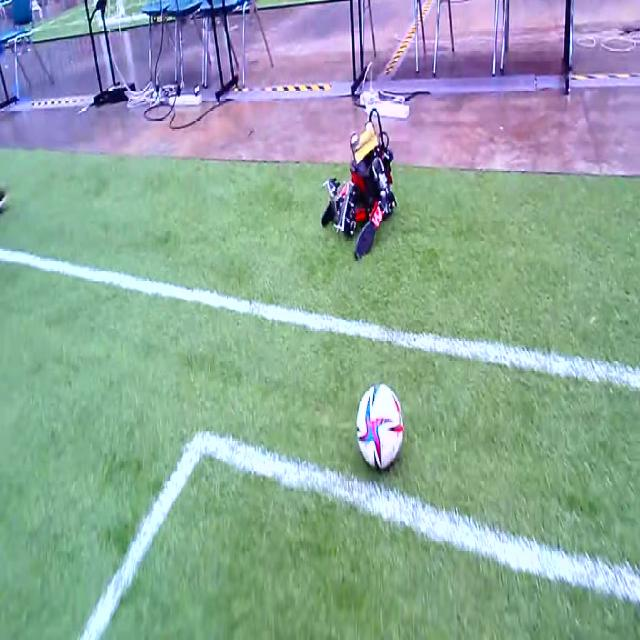ball: (358, 382, 403, 467)
